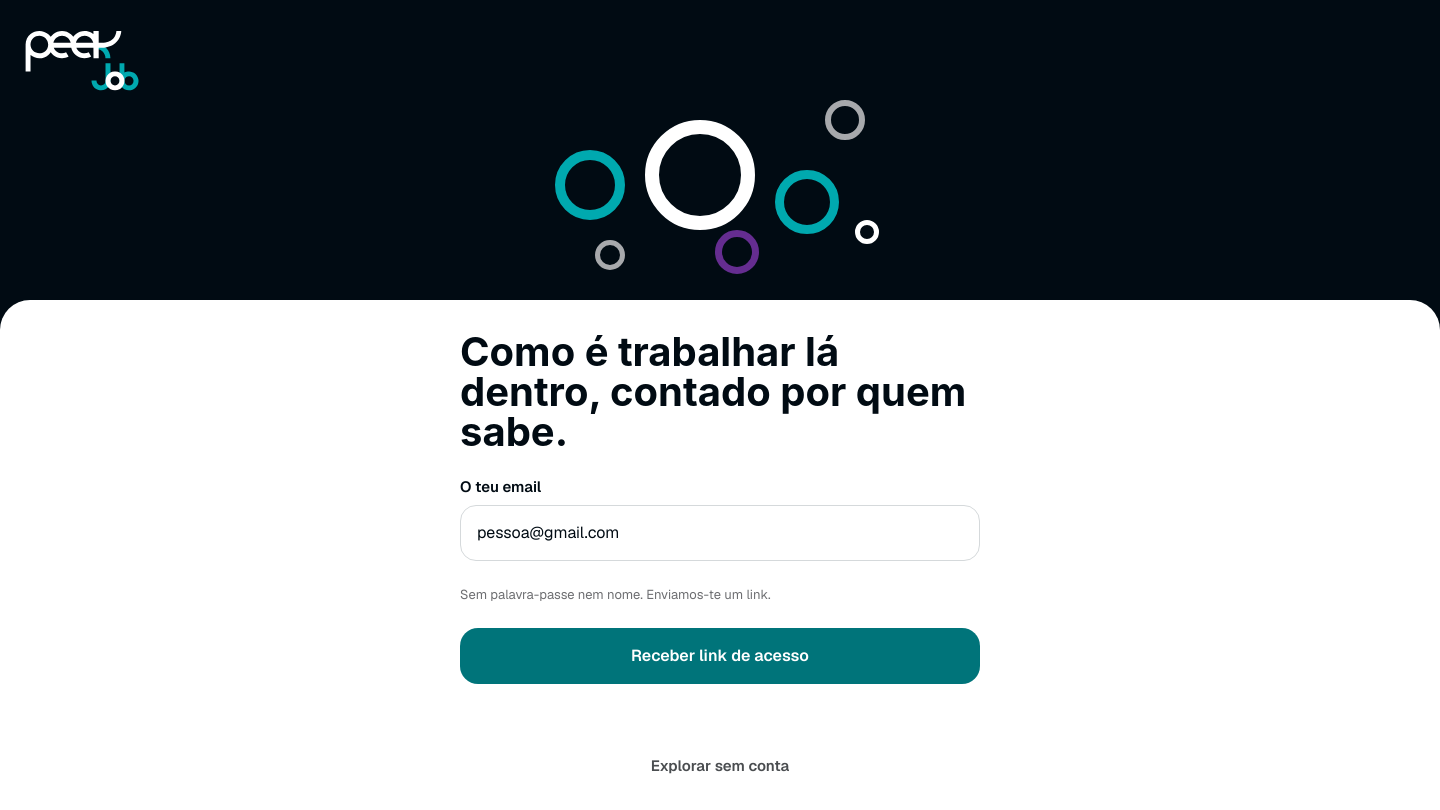
Test: Entrar, demonstração (mobile) › email inválido: mensagem ligada ao campo
Replace the text in the field labelled "O teu email" with "ana@" at (720, 532), box x1=460 y1=504 x2=980 y2=560
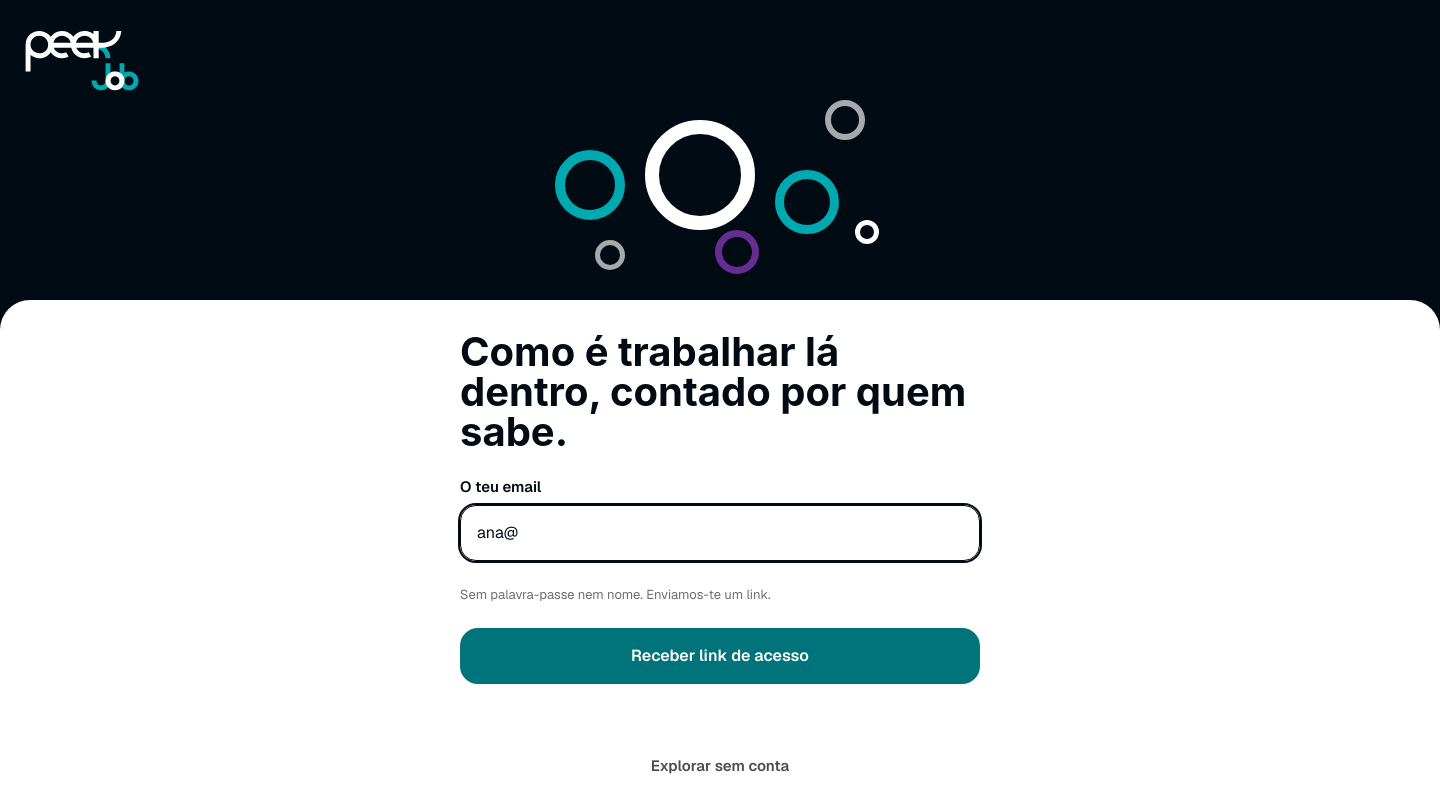
Click the button "Receber link de acesso" at (720, 656), box x1=460 y1=628 x2=980 y2=684
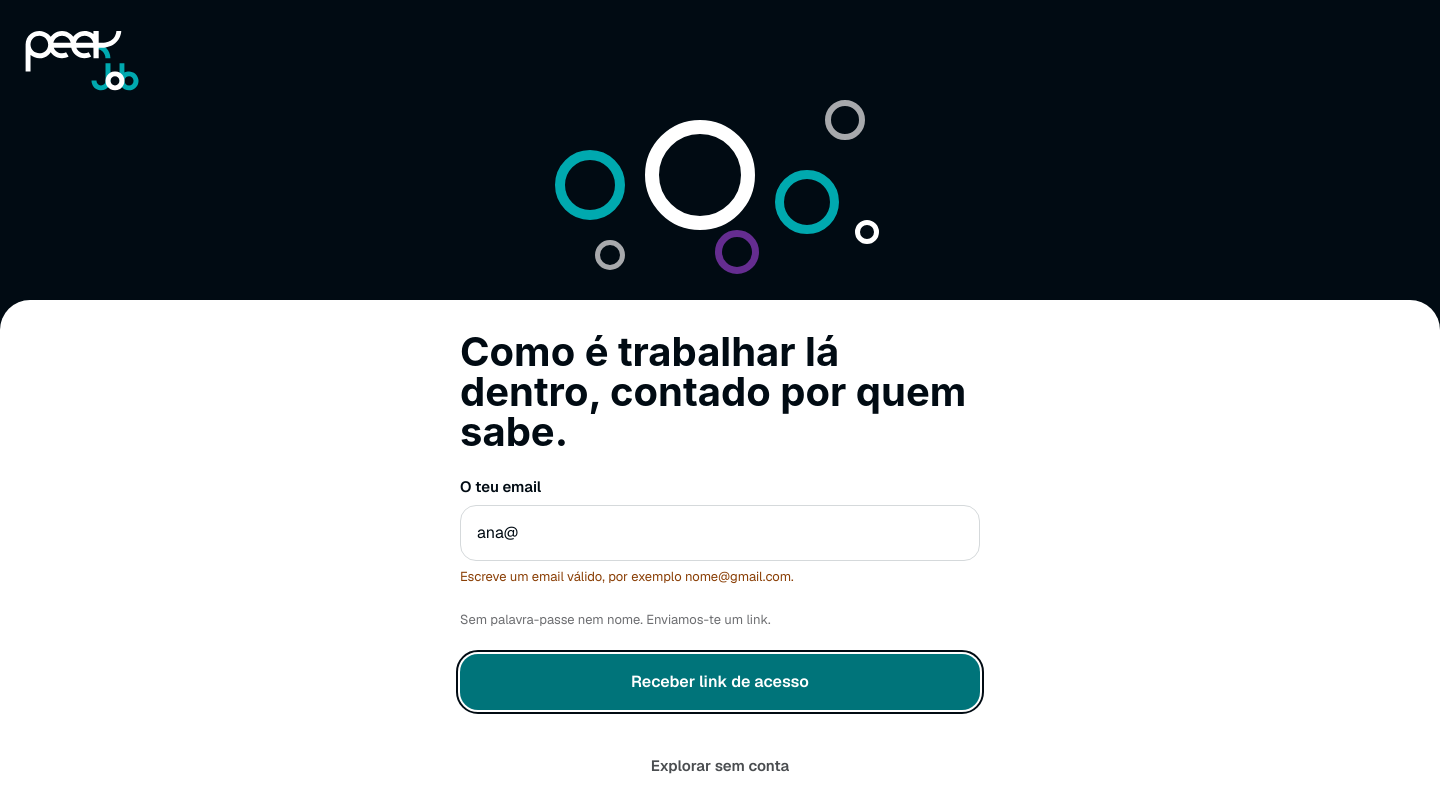
Expected: the message reads "Escreve um email válido, por exemplo nome@gmail.com.", x1=460 y1=568 x2=794 y2=584
